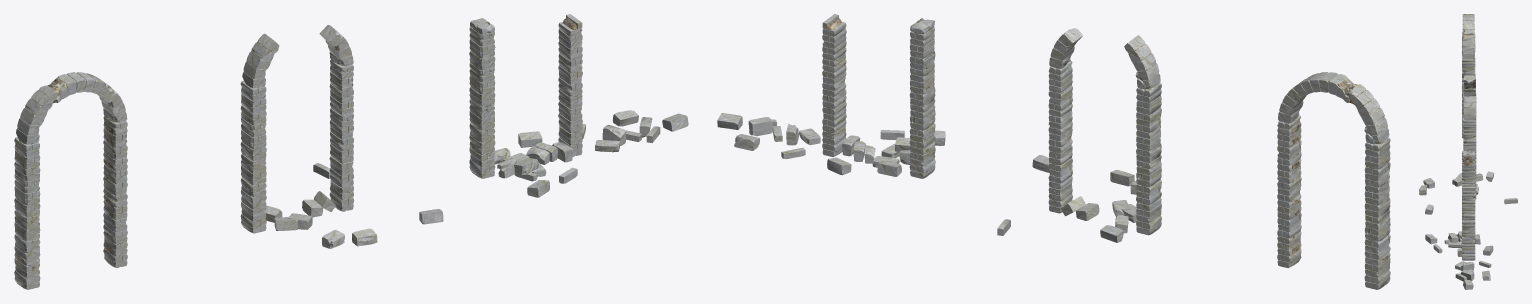
The model's file is stone-arch-ruins.glb.
3 renders of one model, left to right at view 1: azimuth 30°, elevation 25°; view 2: azimuth 150°, elevation 25°; view 3: azimuth 270°, elevation 25°, orthographic. The views are drawn at different scales.
Visible parts, largest first — view 1: Object_6, Object_5; view 2: Object_6, Object_5; view 3: Object_6, Object_5.
Boxes of the visible parts, bbox=[...] form: Object_6: bbox=[14, 14, 688, 289]; Object_5: bbox=[17, 18, 578, 283]; Object_6: bbox=[717, 14, 1390, 289]; Object_5: bbox=[826, 18, 1388, 285]; Object_6: bbox=[1419, 14, 1517, 289]; Object_5: bbox=[1463, 14, 1475, 234].
Bounding box in the file's own units: 17.55 × 4.95 × 4.1.
2 materials, 2 textured.
